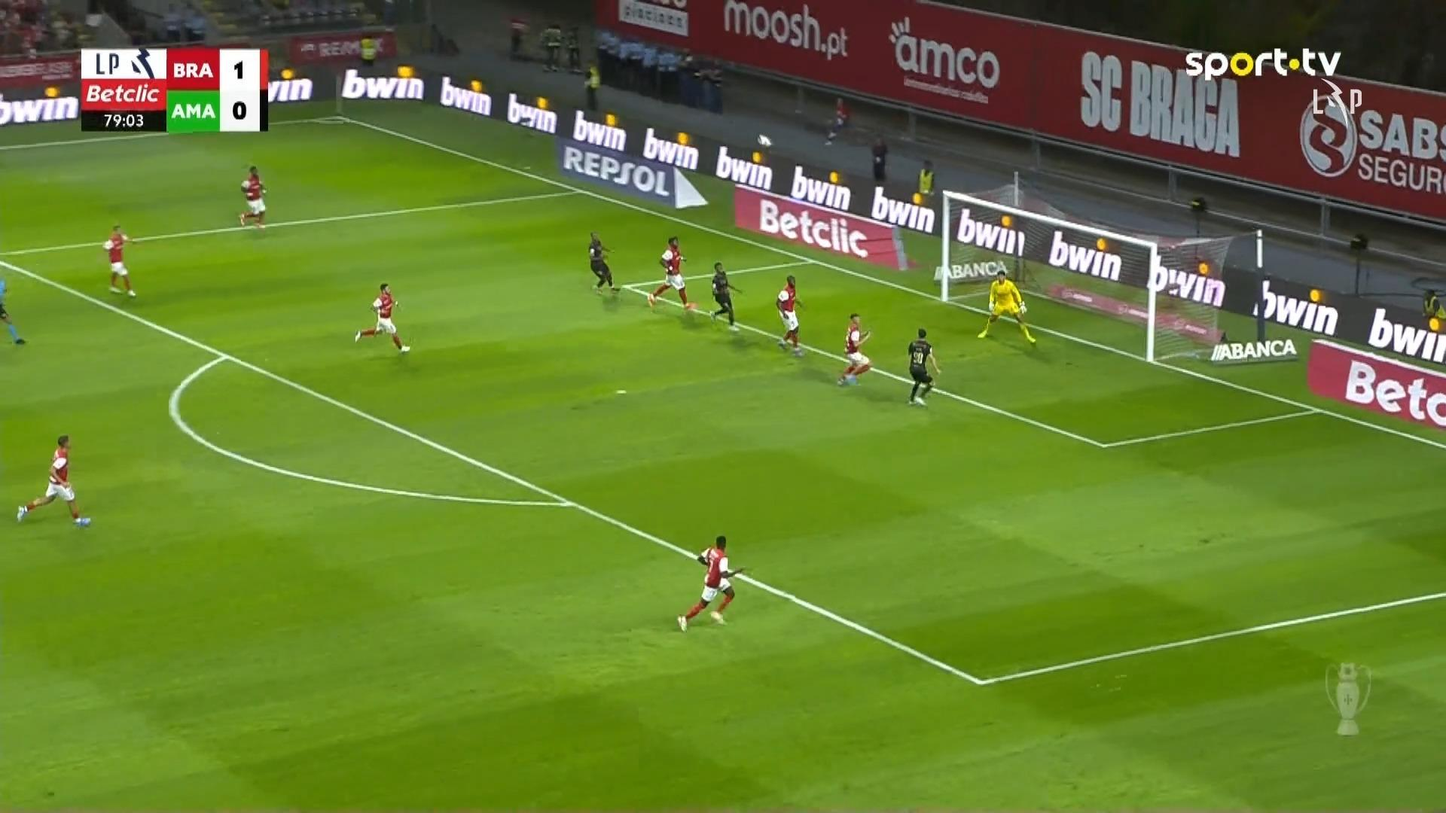ball: (755, 132, 774, 148)
player: (15, 434, 91, 528), (675, 534, 745, 632), (976, 268, 1036, 345), (353, 282, 410, 355), (645, 236, 695, 311), (905, 327, 941, 406), (102, 223, 137, 297), (836, 312, 871, 386), (775, 274, 805, 356), (709, 261, 743, 332), (587, 231, 620, 293), (238, 165, 267, 229), (0, 277, 26, 345)
